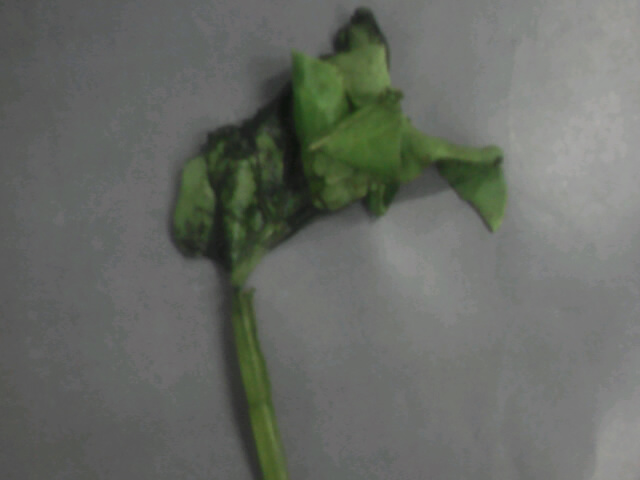yellow: (155, 3, 519, 387)
